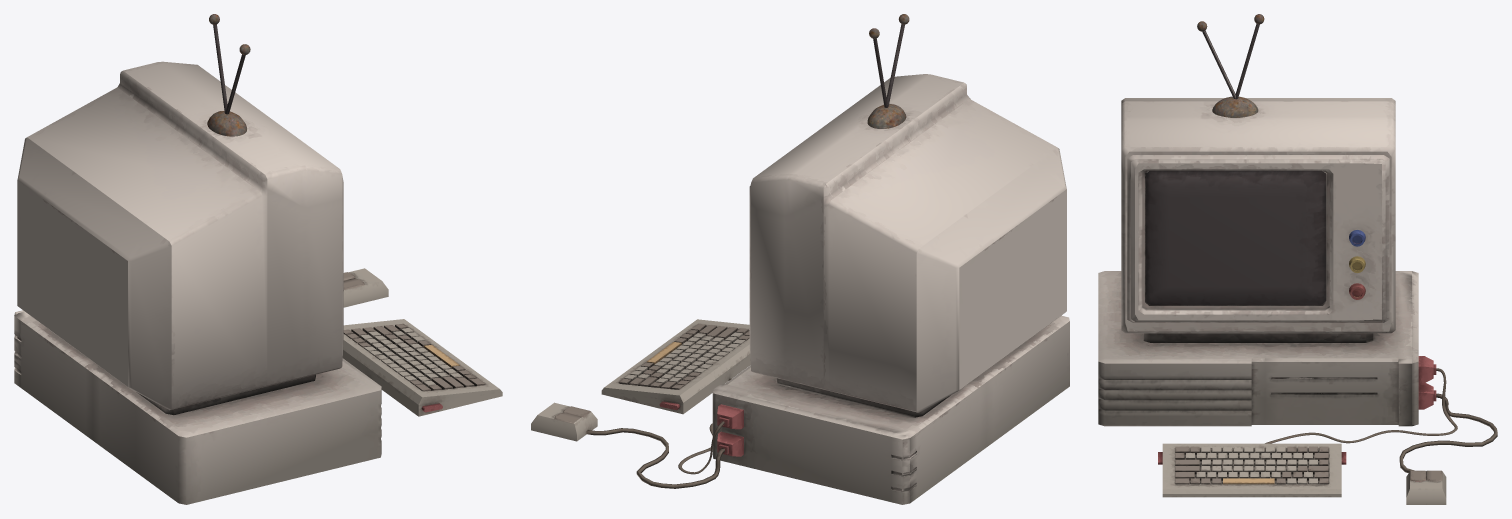
The model's file is Television2.fbx.
3 views of the same model, side by side, from view 1: azimuth 30°, elevation 25°; view 2: azimuth 150°, elevation 25°; view 3: azimuth 270°, elevation 25° (orthographic). The views are drawn at different scales.
Parts seen in each view (by area): view 1: Sphere.001, Cube.001; view 2: Sphere.001, Cube.001; view 3: Sphere.001, Cube.001.
Boxes of the visible parts, box(x1,y1,x2,y2) form: Sphere.001: box(14, 14, 381, 504); Cube.001: box(342, 268, 502, 416); Sphere.001: box(712, 14, 1069, 504); Cube.001: box(531, 319, 750, 488); Sphere.001: box(1098, 14, 1418, 426); Cube.001: box(1158, 356, 1497, 504).
Size of the model in its own units: 401 by 390 by 376.
